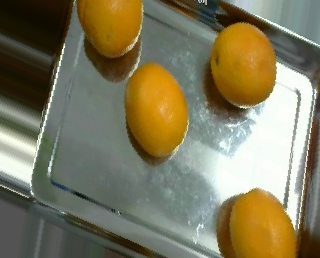Orange: (125, 63, 189, 157), (210, 23, 278, 108), (229, 186, 299, 258)
